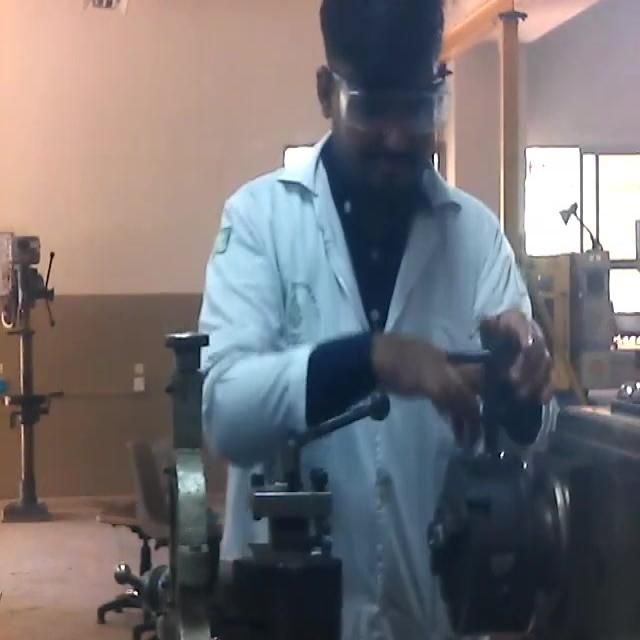googles: (337, 80, 445, 142)
labcoat: (197, 128, 547, 640)
